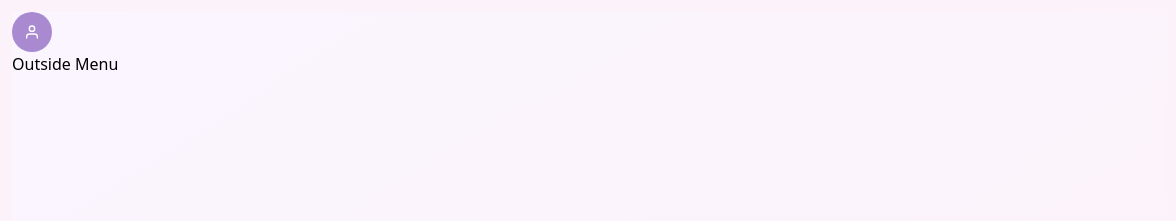
it: UserMenu › navigates to the account dashboard
The width and height of the screenshot is (1176, 221).
Click the button: (32, 32) [12,12,52,52]
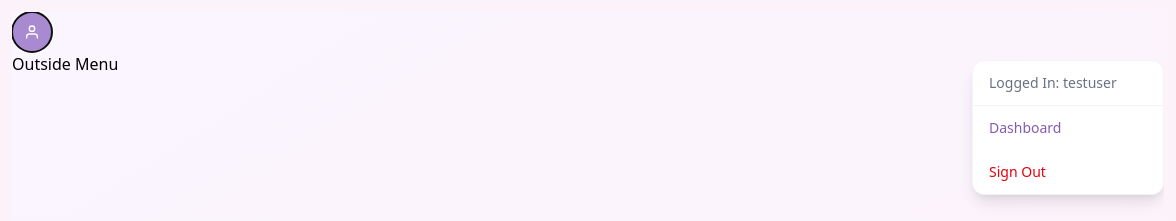
Click the link "Dashboard": (1025, 128) [989,118,1062,137]
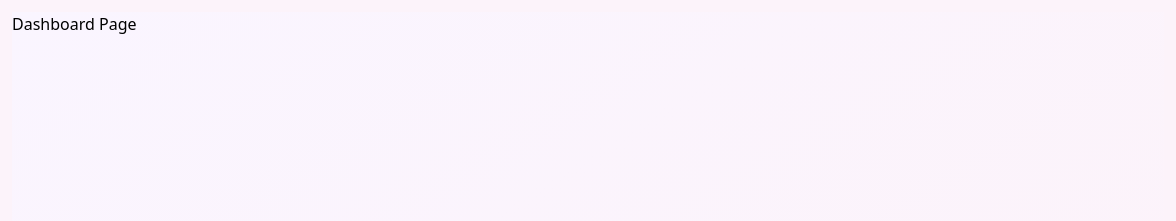
Expected: the text "Dashboard Page" is shown, [12,13,136,35]
